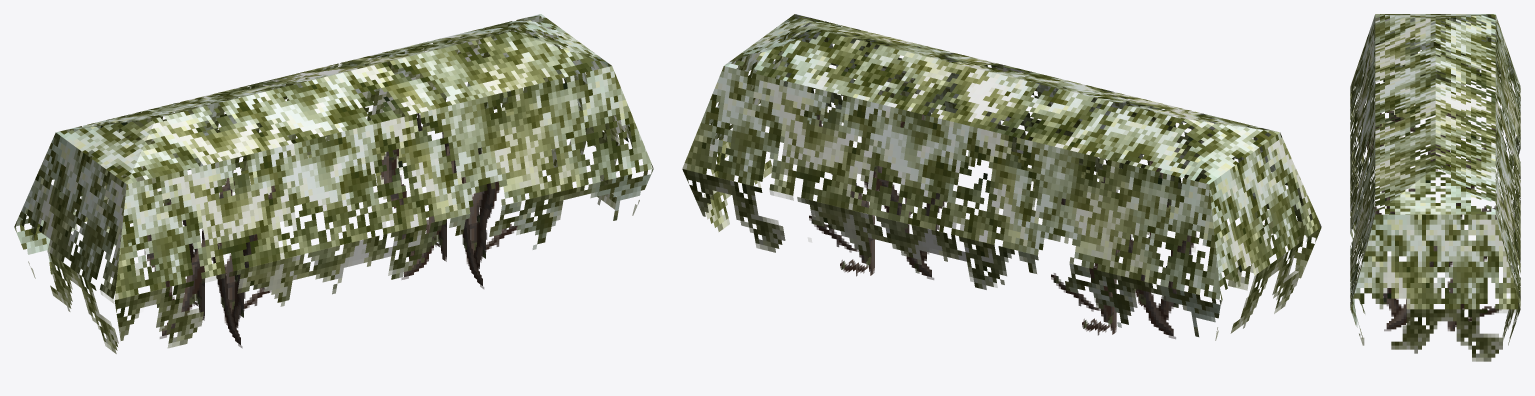
Rendered from bush_long_single_roots_winter.glb.
The picture shows the model from 3 angles, left to right: view 1: azimuth 30°, elevation 25°; view 2: azimuth 150°, elevation 25°; view 3: azimuth 270°, elevation 25°; orthographic projection. The views are drawn at different scales.
Parts seen in each view (by area): view 1: bush_long_single_roots_winter; view 2: bush_long_single_roots_winter; view 3: bush_long_single_roots_winter.
Boxes of the visible parts, x1,y1,x2,y2 form: bush_long_single_roots_winter: [14, 14, 653, 353]; bush_long_single_roots_winter: [682, 14, 1321, 340]; bush_long_single_roots_winter: [1350, 14, 1520, 361].
Bounding box in the file's own units: 2.23 × 0.8765 × 0.7191.
Materials: 2 (2 with a texture image).
